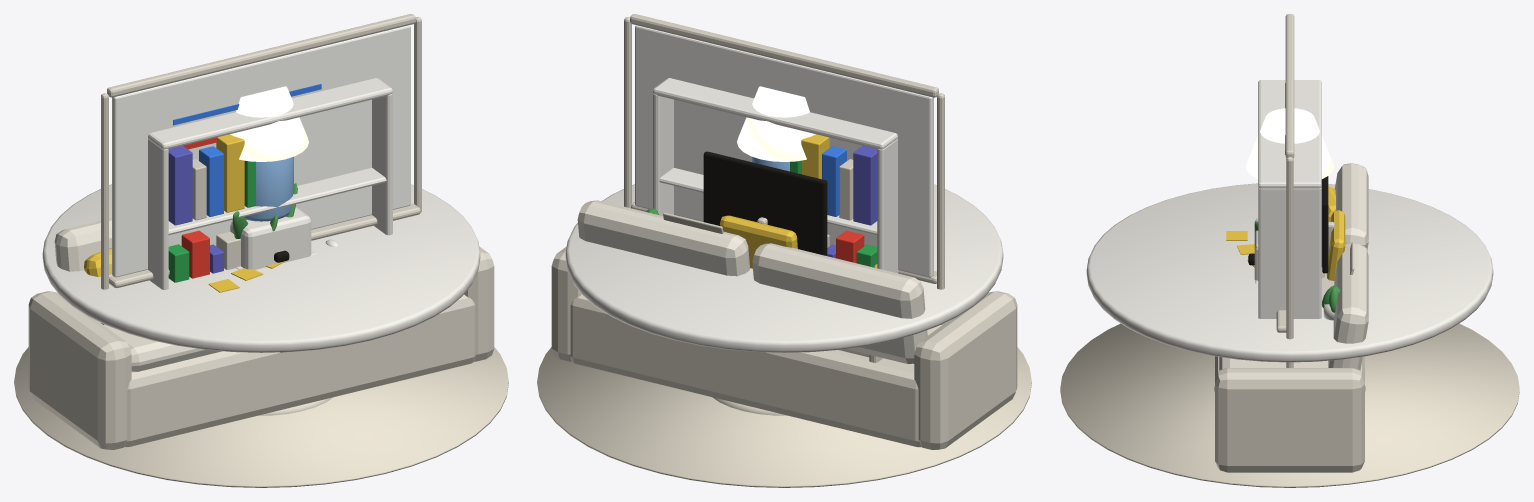
Rendered from office-kit.glb.
3 renders of one model, left to right at view 1: azimuth 30°, elevation 25°; view 2: azimuth 150°, elevation 25°; view 3: azimuth 270°, elevation 25°, orthographic. The views are drawn at different scales.
Visible parts, largest first — view 1: Cylinder.003, Cylinder.005, Cube.034, Cube.025, Cube.028, Cube.045, Cone.002, Cube.035, Cube.069, Cube.046, Cube.047, Cube.063 (+16 smaller); view 2: Cylinder.005, Cylinder.003, Cube.034, Cube.025, Cube.028, Cube.027, Cube.004, Cube.030, Cube.045, Cone.002, Cube.035, Cube.046 (+11 smaller); view 3: Cylinder.003, Cylinder.005, Cube.031, Cube.047, Cube.045, Cube.030, Cube.027, Cone.002, Cube.039, Cube.035, Cube.014, Cube.029 (+1 smaller).
Boxes of the visible parts, x1,y1,x2,y2 form: Cylinder.003: (42, 184, 480, 352); Cylinder.005: (14, 347, 508, 487); Cube.034: (112, 25, 410, 277); Cube.025: (124, 294, 475, 447); Cube.028: (28, 291, 131, 449); Cube.045: (148, 78, 392, 149); Cone.002: (230, 86, 308, 161); Cube.035: (107, 14, 415, 97); Cube.069: (230, 207, 311, 269); Cube.046: (148, 139, 168, 289); Cube.047: (372, 93, 392, 235); Cube.063: (168, 168, 386, 234); Cylinder.005: (537, 347, 1031, 487); Cylinder.003: (565, 184, 1003, 352); Cube.034: (635, 25, 933, 277); Cube.025: (570, 294, 921, 447); Cube.028: (914, 291, 1017, 449); Cube.027: (752, 243, 927, 363); Cube.004: (703, 151, 827, 255); Cube.030: (577, 200, 749, 276); Cube.045: (653, 78, 897, 149); Cone.002: (737, 86, 815, 161); Cube.035: (630, 14, 938, 97); Cube.046: (877, 139, 898, 273); Cylinder.003: (1086, 183, 1493, 362); Cylinder.005: (1060, 323, 1519, 487); Cube.031: (1215, 368, 1364, 472); Cube.047: (1258, 187, 1321, 318); Cube.045: (1258, 80, 1321, 188); Cube.030: (1328, 242, 1368, 370); Cube.027: (1334, 163, 1368, 250); Cone.002: (1246, 108, 1333, 178); Cube.039: (1286, 157, 1293, 367); Cube.035: (1285, 14, 1294, 158); Cube.014: (1326, 210, 1345, 280); Cube.029: (1219, 357, 1328, 370).
Size of the model in its own units: 2.6 by 1.92 by 2.6.
